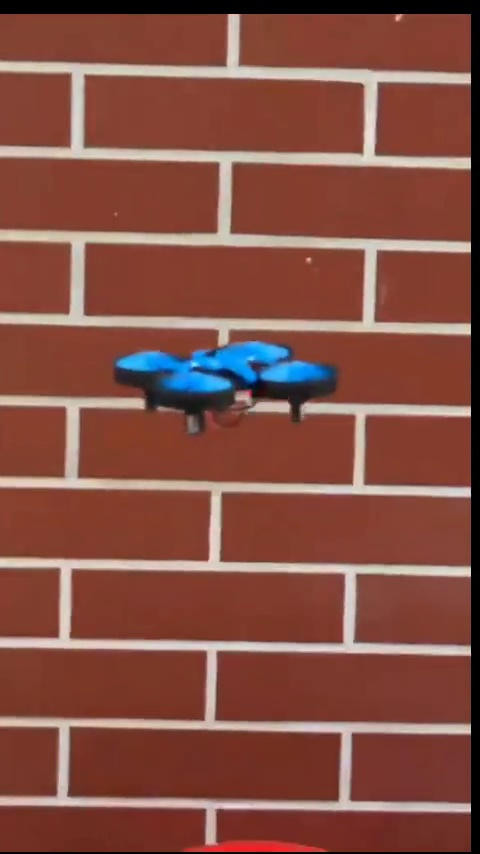drone: (114, 332, 335, 441)
